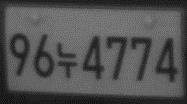4: (81, 33, 106, 80), (154, 37, 179, 81)
6: (32, 31, 55, 78)
7: (105, 34, 128, 81), (131, 35, 153, 82)
9: (9, 31, 30, 77)
누: (56, 40, 78, 80)
